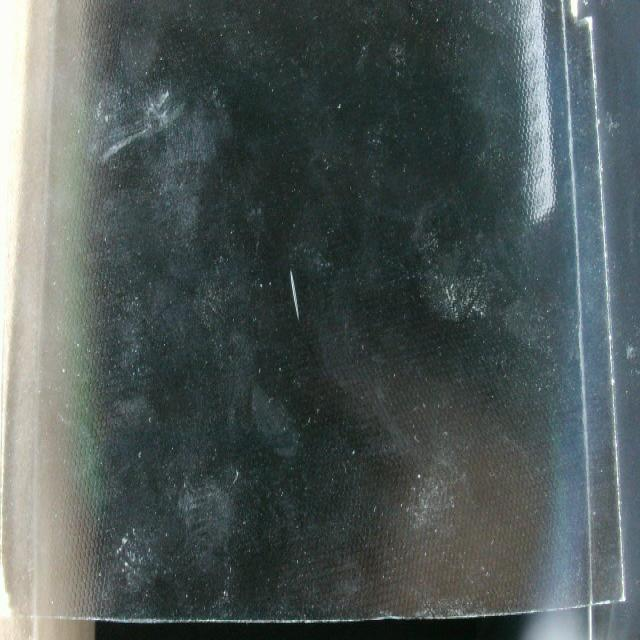edge_chip: (555, 3, 603, 40), (370, 602, 412, 630)
scratch: (284, 258, 306, 325)
